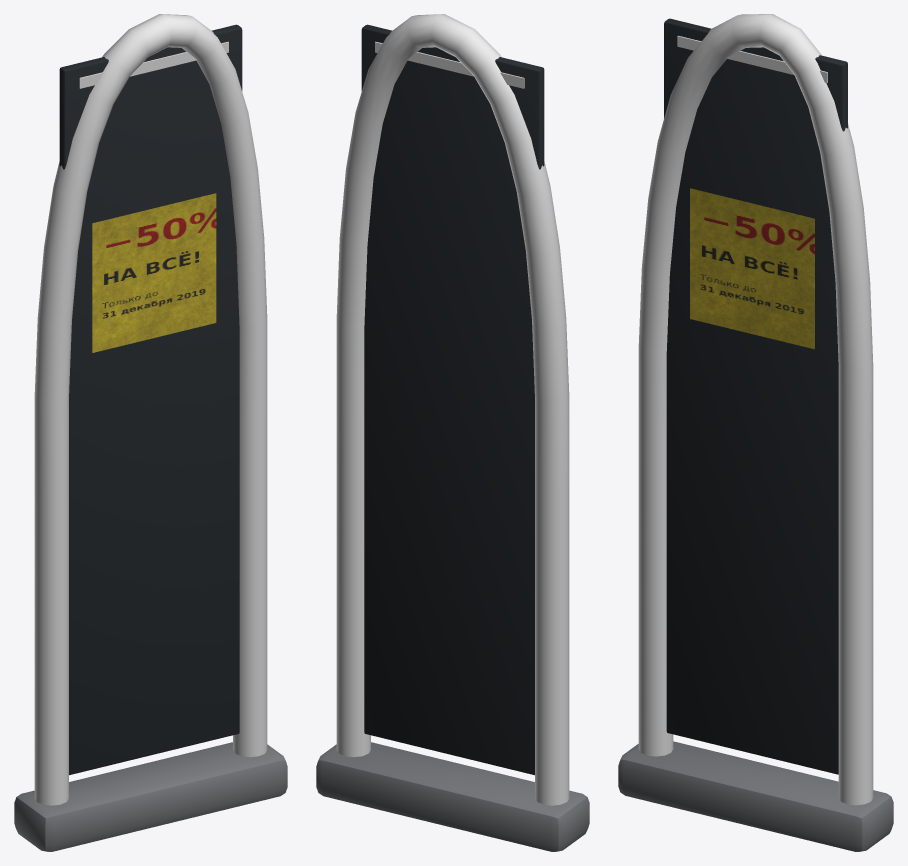
The model's file is AntiTheftGate.fbx.
The picture shows the model from 3 angles, left to right: view 1: azimuth 30°, elevation 25°; view 2: azimuth 150°, elevation 25°; view 3: azimuth 330°, elevation 25°; orthographic projection.
Visible parts, largest first — view 1: AntiTheftGate; view 2: AntiTheftGate; view 3: AntiTheftGate.
Boxes of the visible parts, x1=… form: AntiTheftGate: x1=14, y1=14, x2=287, y2=851; AntiTheftGate: x1=316, y1=14, x2=589, y2=851; AntiTheftGate: x1=618, y1=14, x2=893, y2=851.
Size of the model in its own units: 0.5 by 1.54 by 0.12.
